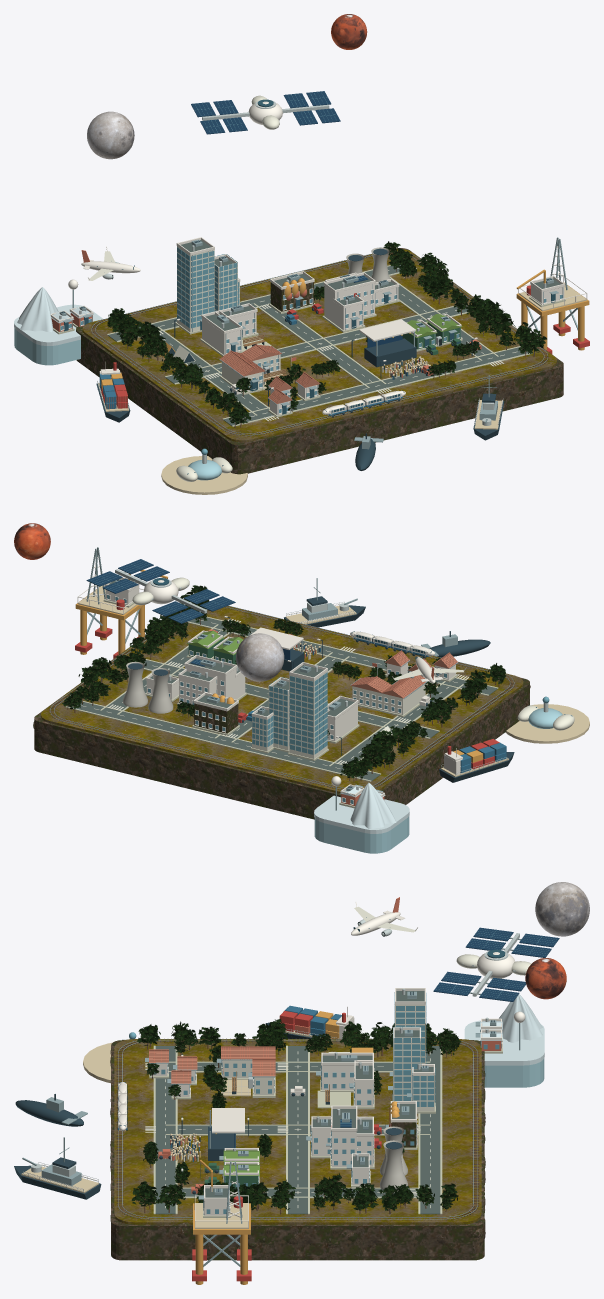
File: vision-world.glb
3 renders of one model, top to bottom at view 1: azimuth 30°, elevation 25°; view 2: azimuth 150°, elevation 25°; view 3: azimuth 270°, elevation 25°, orthographic. The views are drawn at different scales.
Parts seen in each view (by area): view 1: terrain__grass, terrain__rock, terrain__leaves, terrain__asphalt, office__glass, terrain__path, terrain__trunk, antarctic__snow, station__solar, hospital__white, moon__moon, deep-sea__sand (+16 smaller); view 2: terrain__grass, terrain__rock, terrain__leaves, terrain__asphalt, office__glass, antarctic__snow, terrain__trunk, terrain__path, station__solar, office__chalk, antarctic__ice, hospital__white (+31 smaller); view 3: terrain__grass, terrain__rock, terrain__leaves, terrain__asphalt, terrain__trunk, antarctic__snow, station__solar, terrain__path, office__glass, moon__moon, hospital__white, university__white (+30 smaller).
Part boxes in pixels (x1,y1,x2,y2): terrain__grass: [82, 248, 556, 442]; terrain__rock: [76, 248, 563, 474]; terrain__leaves: [107, 241, 547, 424]; terrain__asphalt: [108, 264, 528, 425]; office__glass: [177, 247, 239, 328]; terrain__path: [107, 265, 532, 426]; terrain__trunk: [90, 246, 548, 436]; antarctic__snow: [14, 287, 102, 345]; station__solar: [191, 91, 340, 134]; hospital__white: [323, 272, 375, 330]; moon__moon: [87, 111, 134, 159]; deep-sea__sand: [161, 456, 247, 494]; terrain__grass: [41, 606, 523, 793]; terrain__rock: [33, 636, 530, 819]; terrain__leaves: [62, 585, 506, 778]; terrain__asphalt: [67, 617, 497, 781]; office__glass: [252, 672, 327, 754]; antarctic__snow: [314, 782, 409, 833]; terrain__trunk: [49, 591, 515, 790]; terrain__path: [65, 616, 498, 781]; station__solar: [86, 559, 235, 623]; office__chalk: [252, 671, 327, 758]; antarctic__ice: [314, 816, 409, 853]; hospital__white: [178, 655, 245, 704]; terrain__grass: [114, 1039, 481, 1224]; terrain__rock: [110, 1040, 485, 1260]; terrain__leaves: [131, 1019, 461, 1210]; terrain__asphalt: [155, 1046, 440, 1214]; terrain__trunk: [116, 1026, 479, 1220]; antarctic__snow: [464, 994, 544, 1065]; station__solar: [433, 927, 559, 1001]; terrain__path: [153, 1045, 442, 1214]; office__glass: [393, 993, 435, 1106]; moon__moon: [535, 882, 589, 936]; hospital__white: [310, 1105, 374, 1167]; university__white: [320, 1052, 374, 1106].
Bounding box in the file's own units: 35.92 × 19.16 × 34.83.
34 materials, 8 textured.
